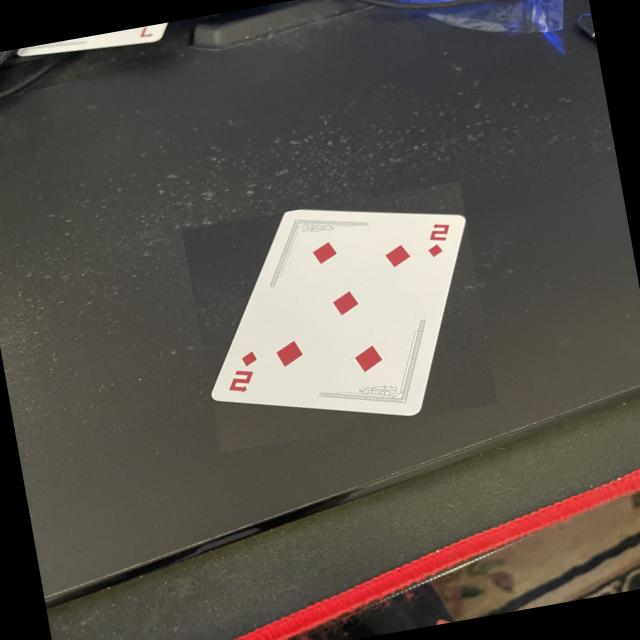5 of diamonds: (211, 210, 466, 419)
